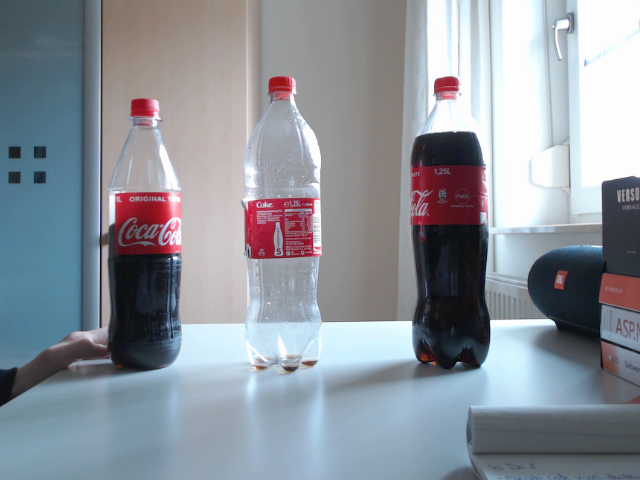bottle: (409, 76, 491, 370), (243, 76, 322, 372), (108, 98, 182, 369)
